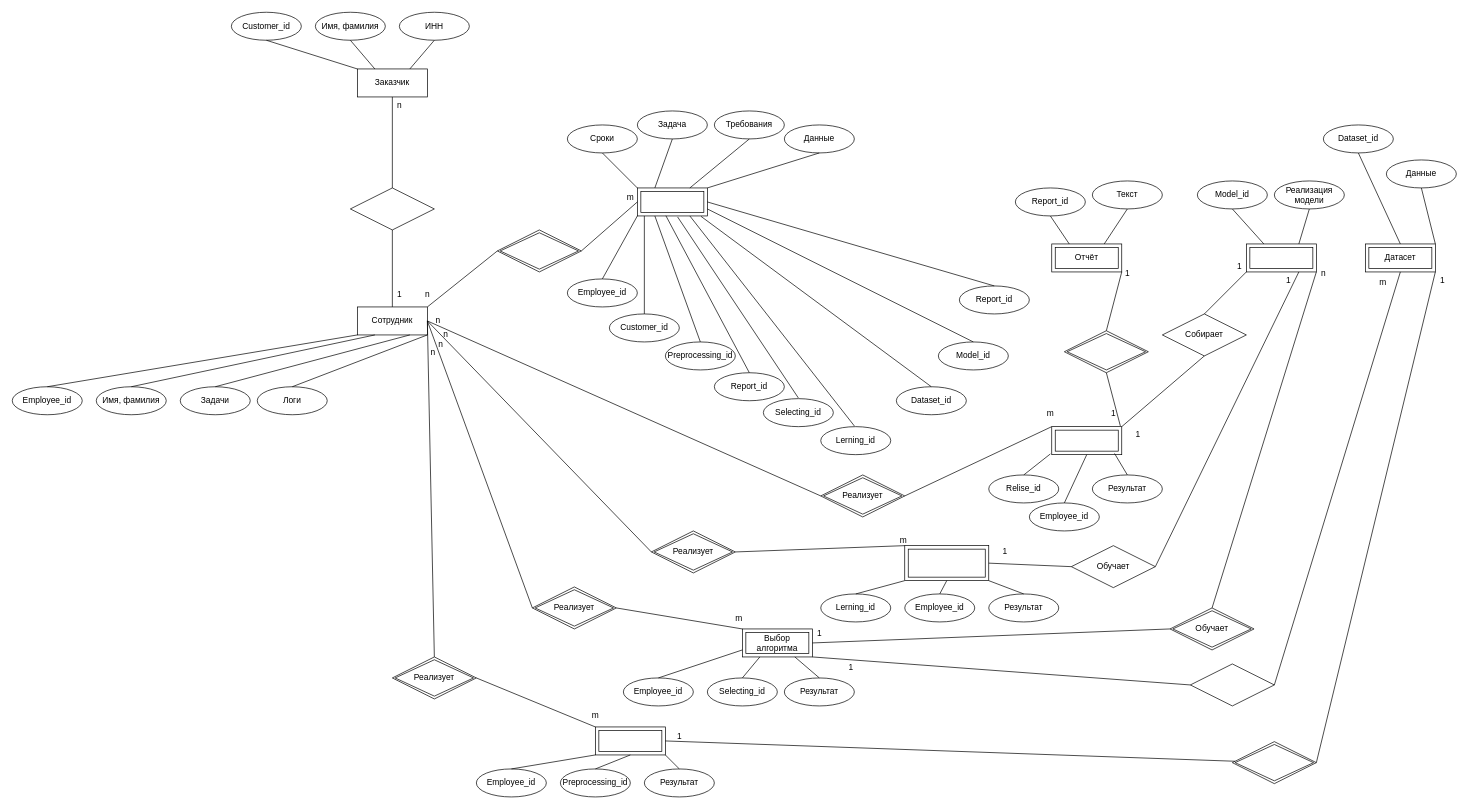
Image size: 1469x809. Some labels were removed from this diagram. Each missing label, with the centre of its shape:
"Берёт данные из" belongs at [1232,684].
"Заказ проекта" belongs at [392,208].
"Инициализирует" belongs at [539,250].
"Модель" belongs at [1281,257].
"Обучение выбранной модели" belongs at [946,563].
"Подготовка датасета" belongs at [630,740].
"Проект" belongs at [672,201].
"Релиз модели и документации" belongs at [1086,440].
"Создаёт" belongs at [1106,351].
"Создаёт и обрабатывает" belongs at [1274,762].
